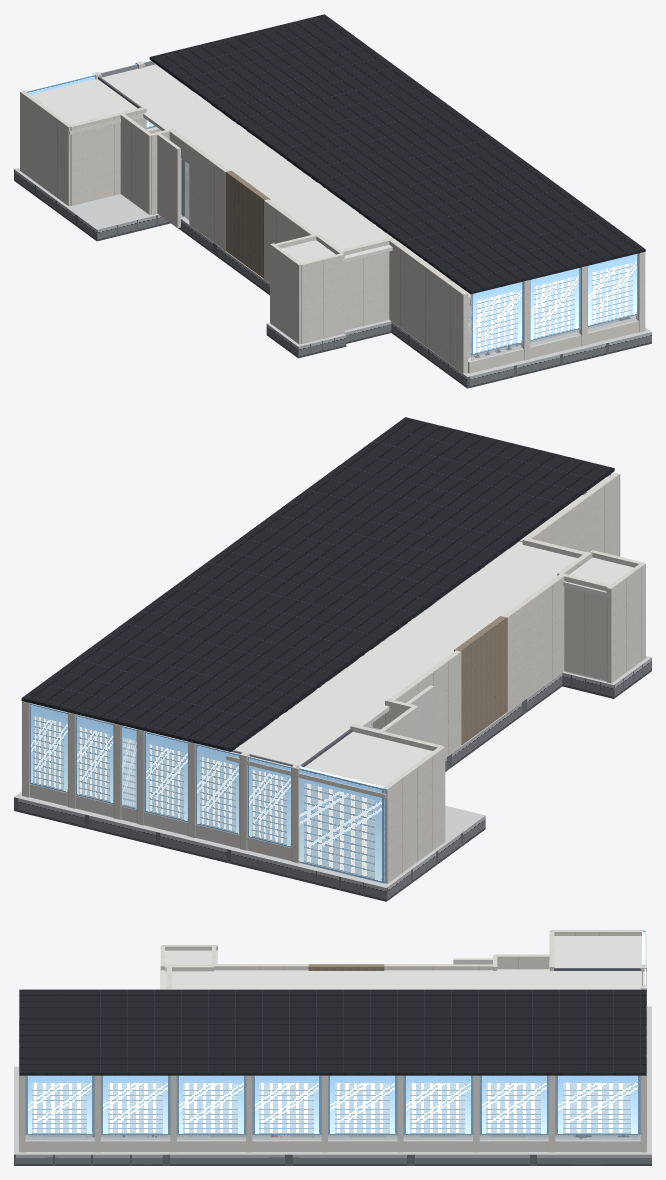
Rendered from office_diorama.glb.
3 renders of one model, top to bottom at view 1: azimuth 30°, elevation 25°; view 2: azimuth 150°, elevation 25°; view 3: azimuth 270°, elevation 25°, orthographic. The views are drawn at different scales.
Parts seen in each view (by area): view 1: Ceiling_DarkMain, Ceiling_WhiteCorridor, Wall_PantryBack, Wuhan_WestWall, Wuhan_SouthWall, Plinth_SouthBay, Plinth_Wuhan, Lobby_SouthWall, Wall_PantryNorthReturn, Wall_WoodPanel, South_GlassUpper_0, South_GlassUpper_2 (+12 smaller); view 2: Ceiling_DarkMain, Ceiling_WhiteCorridor, Wuhan_NorthWindow, Plinth_Main, Wuhan_WestWall, Wall_HonorBase, Wall_WoodPanel, Wall_PantryBack, Ceiling_WhiteWuhan, Plinth_Wuhan, Lobby_NorthWall, Lobby_BackWall (+17 smaller); view 3: Ceiling_DarkMain, Ceiling_WhiteCorridor, East_LowSill, Plinth_Main, East_GlassUpper_7, East_GlassUpper_0, East_GlassUpper_3, East_GlassUpper_1, East_GlassUpper_2, East_GlassUpper_4, East_GlassUpper_5, East_GlassUpper_6 (+28 smaller).
Part boxes in pixels (x1,y1,x2,y2): Ceiling_DarkMain: (149,14,645,294); Ceiling_WhiteCorridor: (97,64,396,262); Wall_PantryBack: (389,238,468,373); Wuhan_WestWall: (20,91,70,205); Wuhan_SouthWall: (69,107,145,205); Plinth_SouthBay: (390,320,651,388); Plinth_Wuhan: (14,167,170,241); Lobby_SouthWall: (299,253,344,343); Wall_PantryNorthReturn: (341,237,393,330); Wall_WoodPanel: (225,170,270,278); South_GlassUpper_0: (471,281,523,355); South_GlassUpper_2: (587,253,638,326); Ceiling_DarkMain: (21,417,614,751); Ceiling_WhiteCorridor: (226,541,592,775); Wuhan_NorthWindow: (296,766,385,883); Plinth_Main: (14,673,562,879); Wuhan_WestWall: (383,746,445,883); Wall_HonorBase: (502,573,566,712); Wall_WoodPanel: (454,616,507,745); Wall_PantryBack: (525,472,620,556); Ceiling_WhiteWuhan: (298,732,432,798); Plinth_Wuhan: (294,805,485,901); Lobby_NorthWall: (559,573,611,680); Lobby_BackWall: (606,562,645,683); Ceiling_DarkMain: (19,989,646,1075); Ceiling_WhiteCorridor: (160,969,646,989); East_LowSill: (25,1137,640,1151); Plinth_Main: (162,1043,651,1165); East_GlassUpper_7: (555,1075,640,1134); East_GlassUpper_0: (25,1075,94,1134); East_GlassUpper_3: (252,1075,321,1134); East_GlassUpper_1: (101,1075,170,1134); East_GlassUpper_2: (176,1075,245,1134); East_GlassUpper_4: (328,1075,397,1134); East_GlassUpper_5: (403,1075,472,1134); East_GlassUpper_6: (479,1075,548,1134).
Bounding box in the file's own units: 13 × 3.72 × 23.6.
76 materials, 37 textured.
